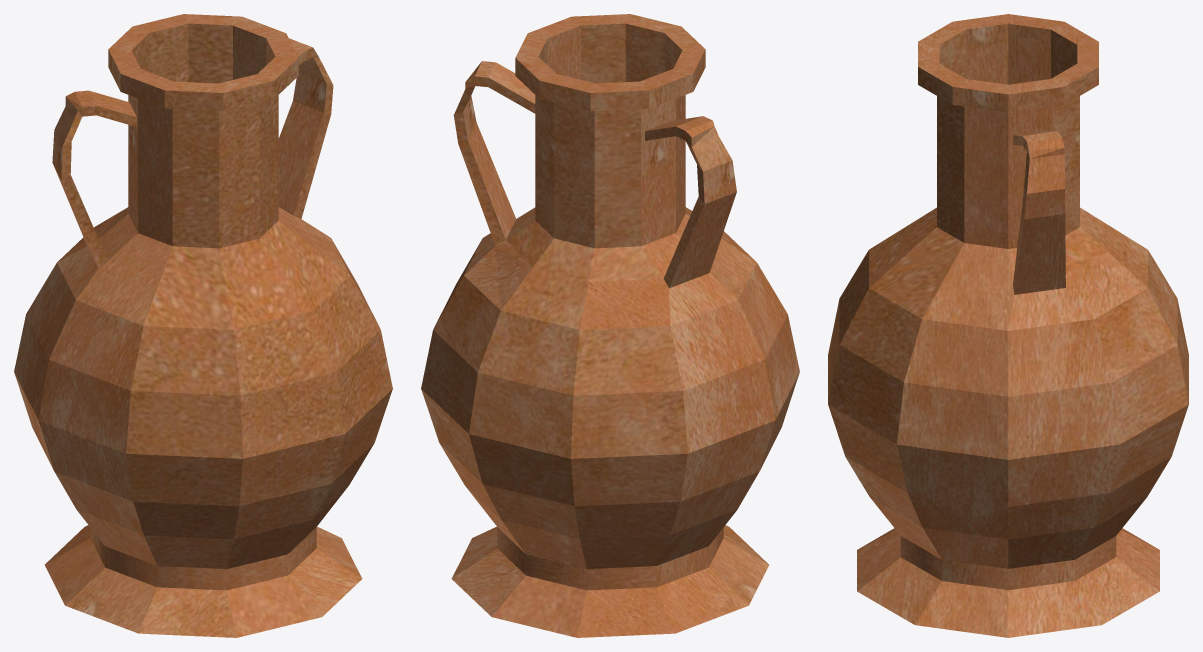
Rendered from unguent_vase.FBX.
3 renders of one model, left to right at view 1: azimuth 30°, elevation 25°; view 2: azimuth 150°, elevation 25°; view 3: azimuth 270°, elevation 25°, orthographic.
Visible parts, largest first — view 1: Cylinder001; view 2: Cylinder001; view 3: Cylinder001.
Part boxes in pixels (left/top/right/bottom): Cylinder001: left=14, top=14, right=392, bottom=637; Cylinder001: left=421, top=14, right=799, bottom=637; Cylinder001: left=828, top=14, right=1188, bottom=637.
Size of the model in its own units: 24.44 by 36.69 by 23.24.
Materials: 1 (1 with a texture image).
